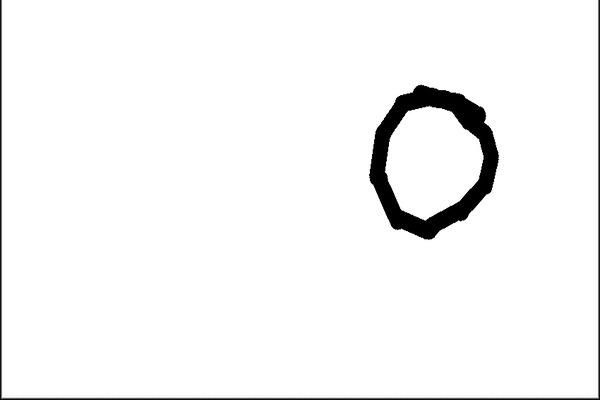O: (362, 77, 504, 253)
